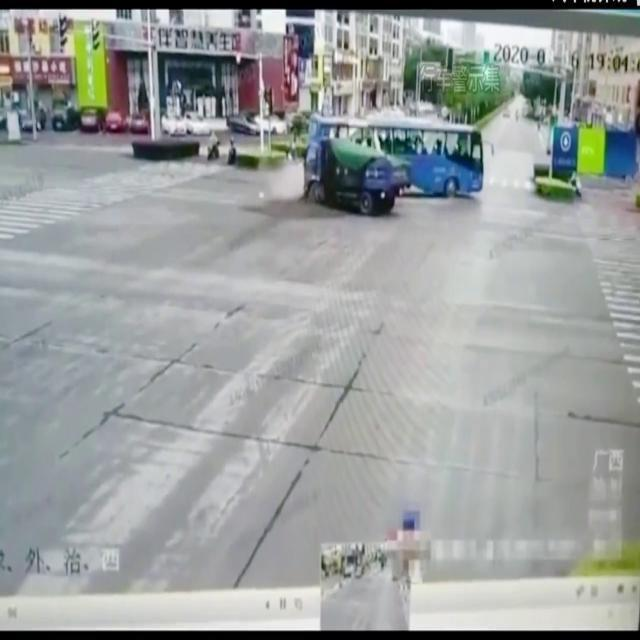accident: (297, 112, 495, 218)
non-accident: (50, 106, 148, 134), (50, 106, 104, 134), (226, 112, 288, 136), (81, 106, 127, 134), (104, 106, 150, 134), (161, 111, 209, 137)
